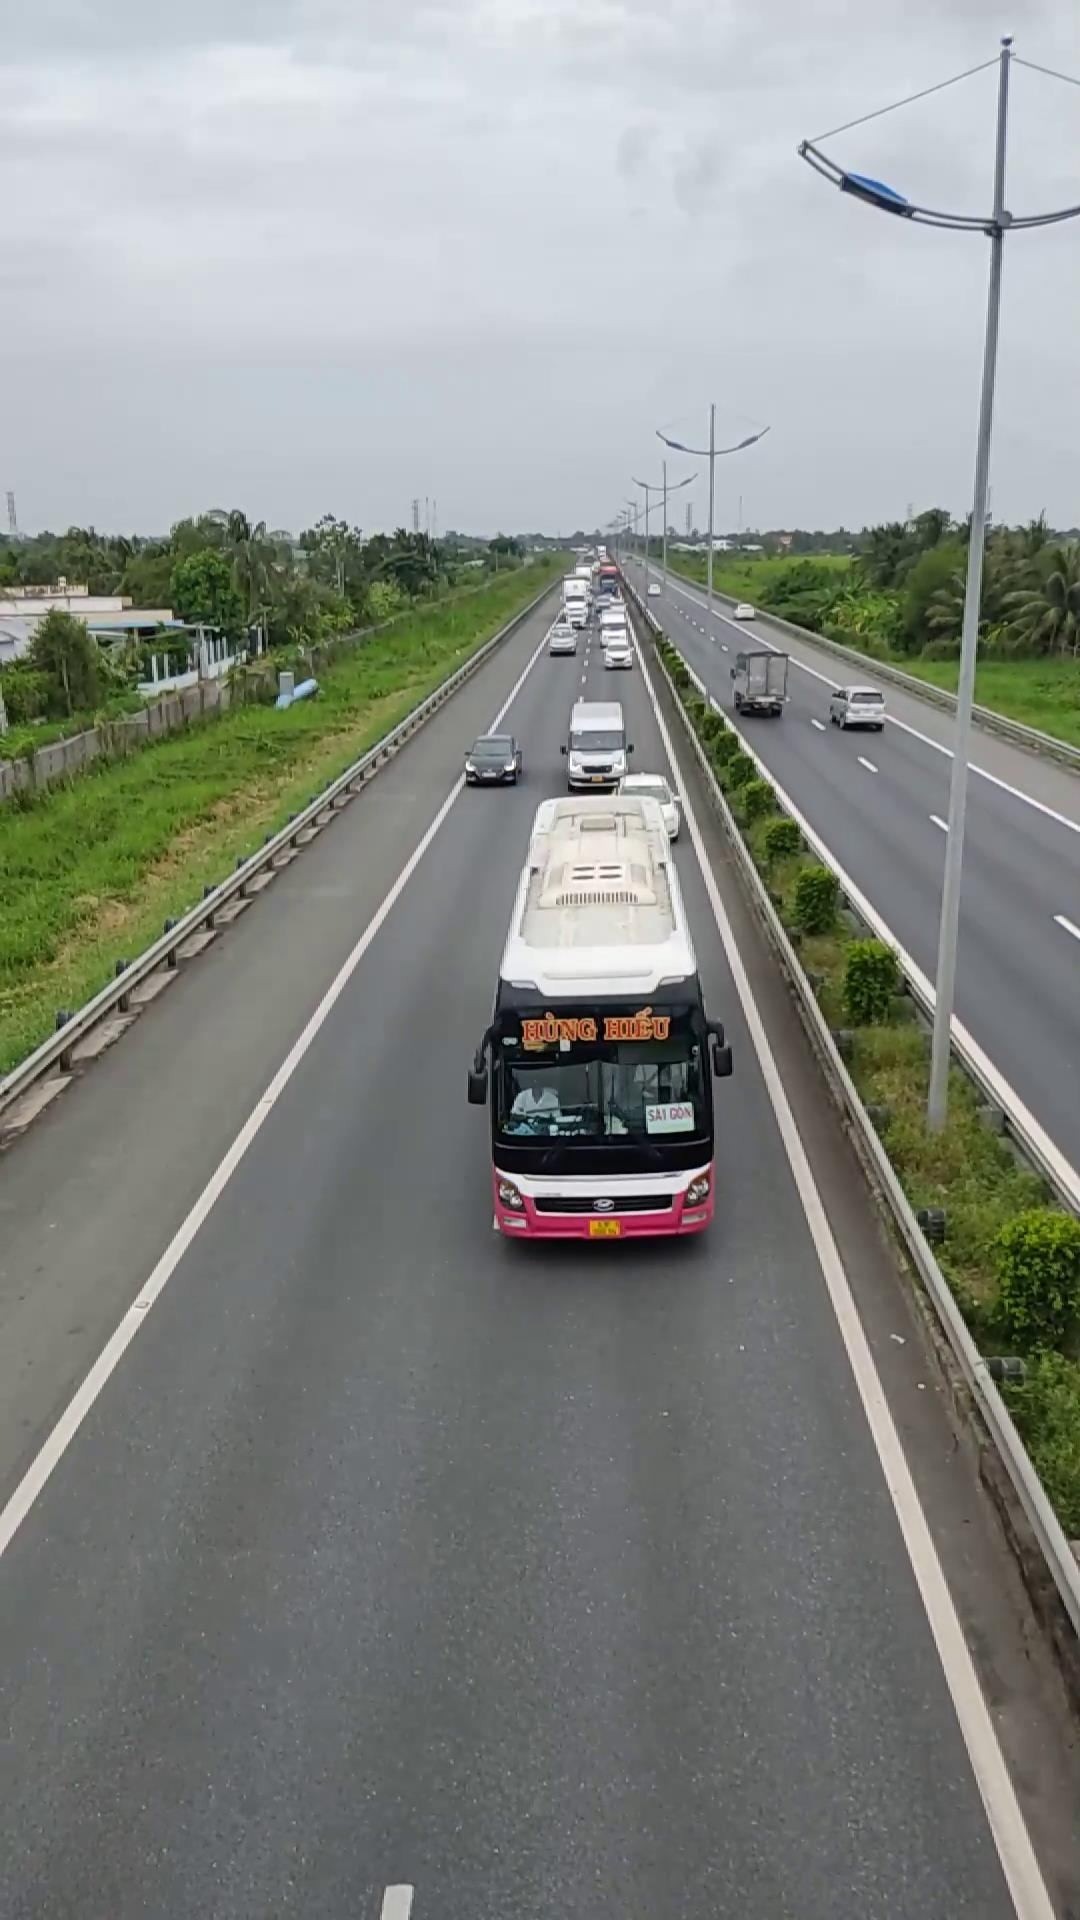bus: (470, 775, 725, 1246)
truck: (728, 643, 789, 716)
